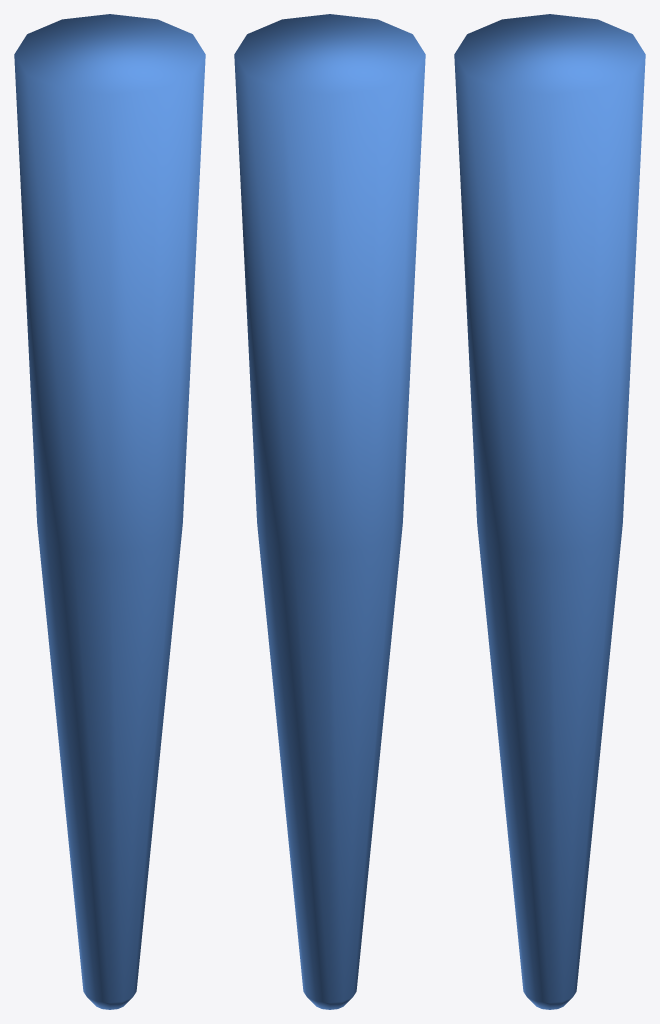
Rendered from m_icicle.fbx.
The picture shows the model from 3 angles, left to right: view 1: azimuth 30°, elevation 25°; view 2: azimuth 150°, elevation 25°; view 3: azimuth 270°, elevation 25°; orthographic projection.
Visible parts, largest first — view 1: m_icicle; view 2: m_icicle; view 3: m_icicle.
Part boxes in pixels (left/top/right/bottom): m_icicle: left=14, top=14, right=205, bottom=1009; m_icicle: left=234, top=14, right=425, bottom=1009; m_icicle: left=454, top=14, right=645, bottom=1009.
Size of the model in its own units: 15.49 by 84.7 by 15.49.
